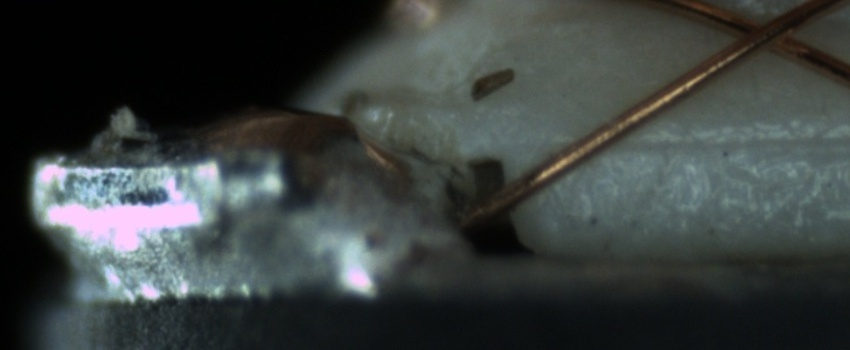CL: (718, 4, 814, 62)
DL: (558, 112, 849, 173)
